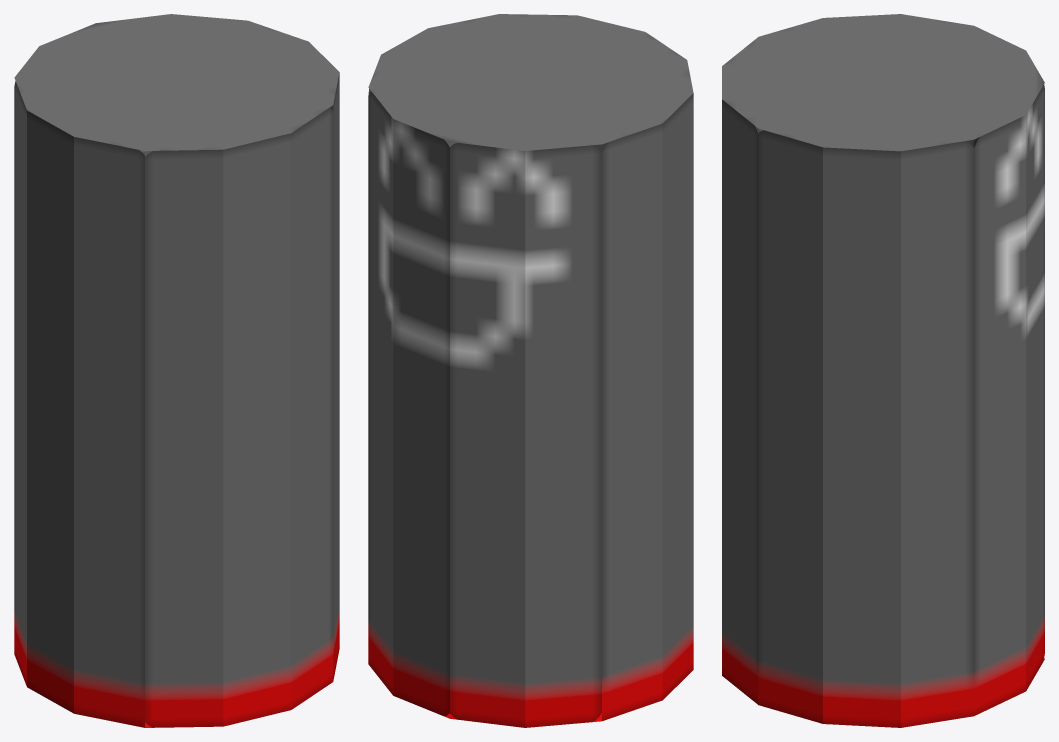
The model's file is player.obj.
The picture shows the model from 3 angles, left to right: view 1: azimuth 30°, elevation 25°; view 2: azimuth 150°, elevation 25°; view 3: azimuth 270°, elevation 25°; orthographic projection.
Visible parts, largest first — view 1: cylinder; view 2: cylinder; view 3: cylinder.
Part boxes in pixels (x1,y1,x2,y2): cylinder: [14, 14, 339, 727]; cylinder: [368, 14, 693, 727]; cylinder: [722, 14, 1044, 727].
Bounding box in the file's own units: 1.02 × 2 × 1.01.
Materials: 1 (1 with a texture image).
